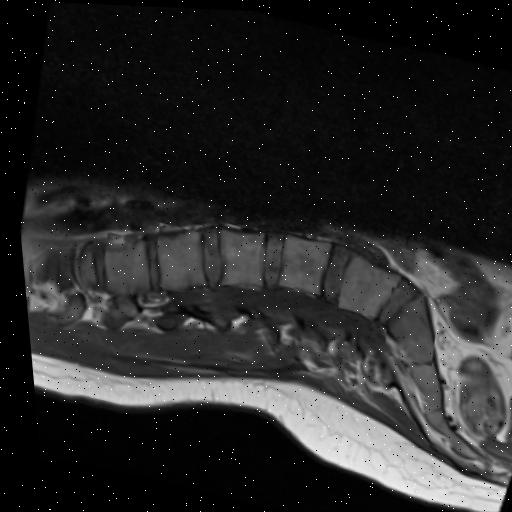L1: (99, 237, 143, 291)
L2: (153, 228, 199, 287)
L3: (215, 226, 260, 284)
L4: (274, 232, 325, 291)
L5: (332, 252, 393, 313)
S1: (380, 290, 427, 359)
